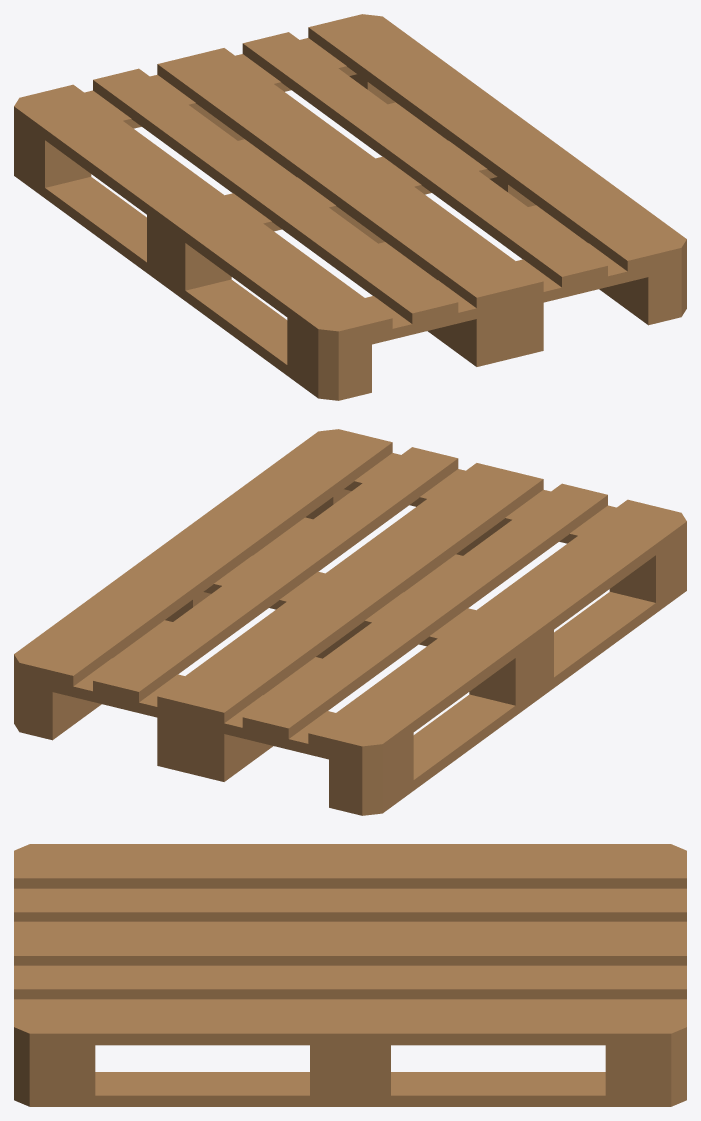
Rendered from pallet_1200x800.obj.
3 views of the same model, one above another, from view 1: azimuth 30°, elevation 25°; view 2: azimuth 150°, elevation 25°; view 3: azimuth 270°, elevation 25° (orthographic). The views are drawn at different scales.
Parts seen in each view (by area): view 1: pallet_1200x800_1; view 2: pallet_1200x800_1; view 3: pallet_1200x800_1.
Boxes of the visible parts, bbox=[...] form: pallet_1200x800_1: bbox=[14, 14, 686, 400]; pallet_1200x800_1: bbox=[14, 429, 686, 815]; pallet_1200x800_1: bbox=[14, 844, 686, 1106].
Bounding box in the file's own units: 800 × 144 × 1200.
